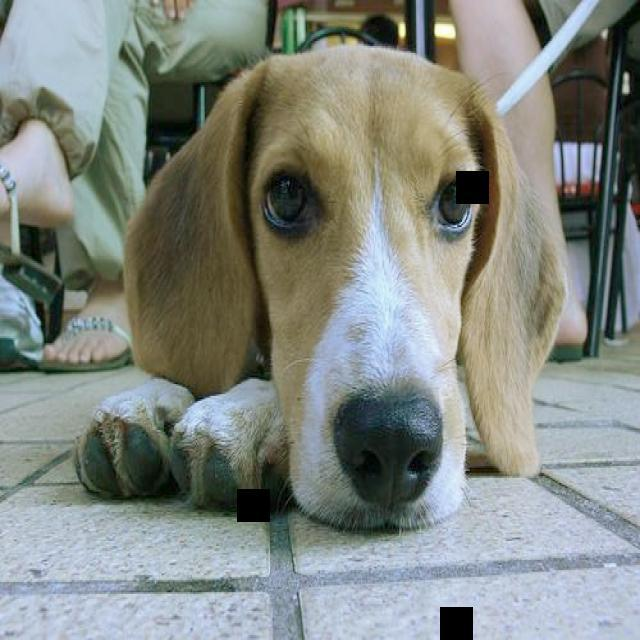puppy-dog: (73, 44, 566, 537)
